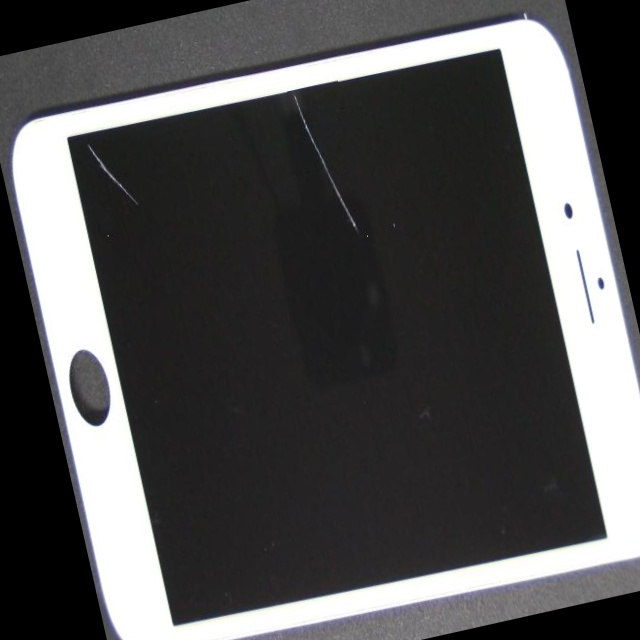scratch: (151, 6, 461, 170), (60, 118, 226, 340)
